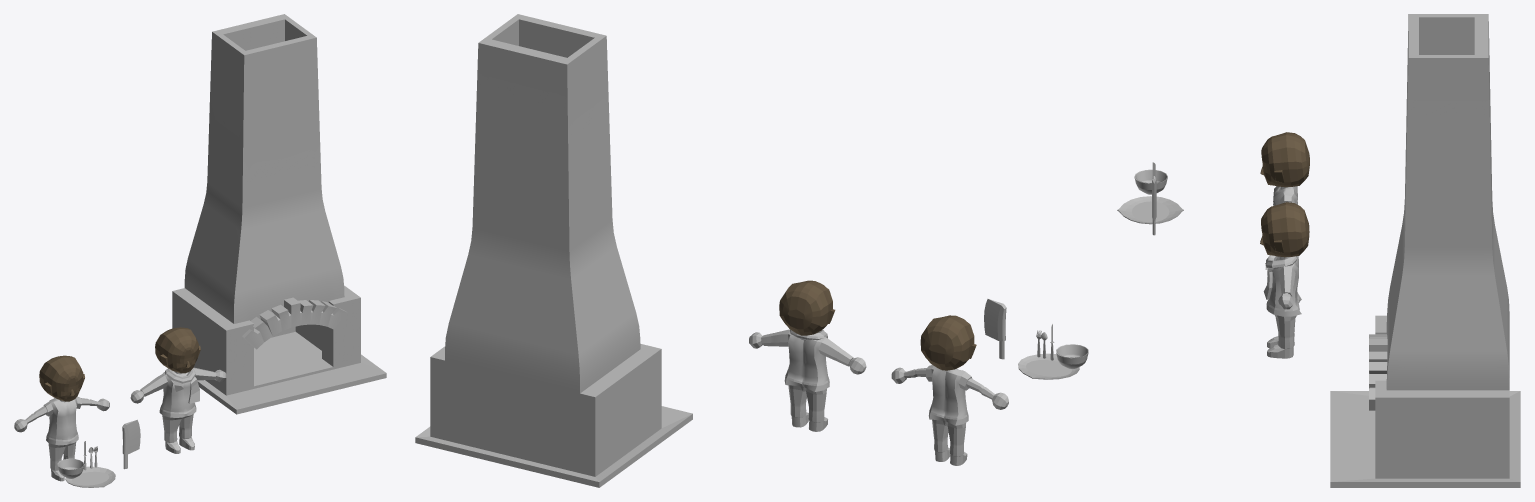
The model's file is Spoon.fbx.
3 renders of one model, left to right at view 1: azimuth 30°, elevation 25°; view 2: azimuth 150°, elevation 25°; view 3: azimuth 270°, elevation 25°, orthographic. The views are drawn at different scales.
Visible parts, largest first — view 1: Fireplace, Long_sleeve_body, Decoration, Short_sleve_body, Face_B, Face_A, pSphere1, Hand_L_B2, Scarf, Cleaver, pCylinder1; view 2: Fireplace, Long_sleeve_body, Short_sleve_body, Face_A, Face_B, pSphere1, Hand_L_B2, Cleaver; view 3: Fireplace, Face_B, Face_A, Long_sleeve_body, pSphere1, Decoration, pCylinder1, Scarf.
Part boxes in pixels (<box>): Fireplace: <box>172,14,386,414</box>; Long_sleeve_body: <box>140,367,215,453</box>; Decoration: <box>242,297,347,349</box>; Short_sleve_body: <box>43,396,81,481</box>; Face_B: <box>155,327,200,373</box>; Face_A: <box>39,355,84,401</box>; pSphere1: <box>65,466,115,487</box>; Hand_L_B2: <box>14,398,109,432</box>; Scarf: <box>165,368,199,403</box>; Cleaver: <box>122,419,140,454</box>; pCylinder1: <box>57,458,84,478</box>; Fireplace: <box>415,14,692,487</box>; Long_sleeve_body: <box>761,329,853,431</box>; Short_sleve_body: <box>926,365,972,465</box>; Face_A: <box>920,315,976,370</box>; Face_B: <box>779,280,835,335</box>; pSphere1: <box>1018,353,1079,379</box>; Hand_L_B2: <box>891,367,1008,409</box>; Cleaver: <box>984,299,1006,341</box>; Fireplace: <box>1330,14,1520,487</box>; Face_B: <box>1260,202,1309,257</box>; Face_A: <box>1260,132,1309,187</box>; Long_sleeve_body: <box>1266,256,1301,358</box>; pSphere1: <box>1117,196,1183,224</box>; Decoration: <box>1369,334,1387,410</box>; pCylinder1: <box>1134,169,1167,194</box>; Scarf: <box>1263,255,1296,299</box>.
Bounding box in the file's own units: 18.67 × 14.62 × 13.12.
